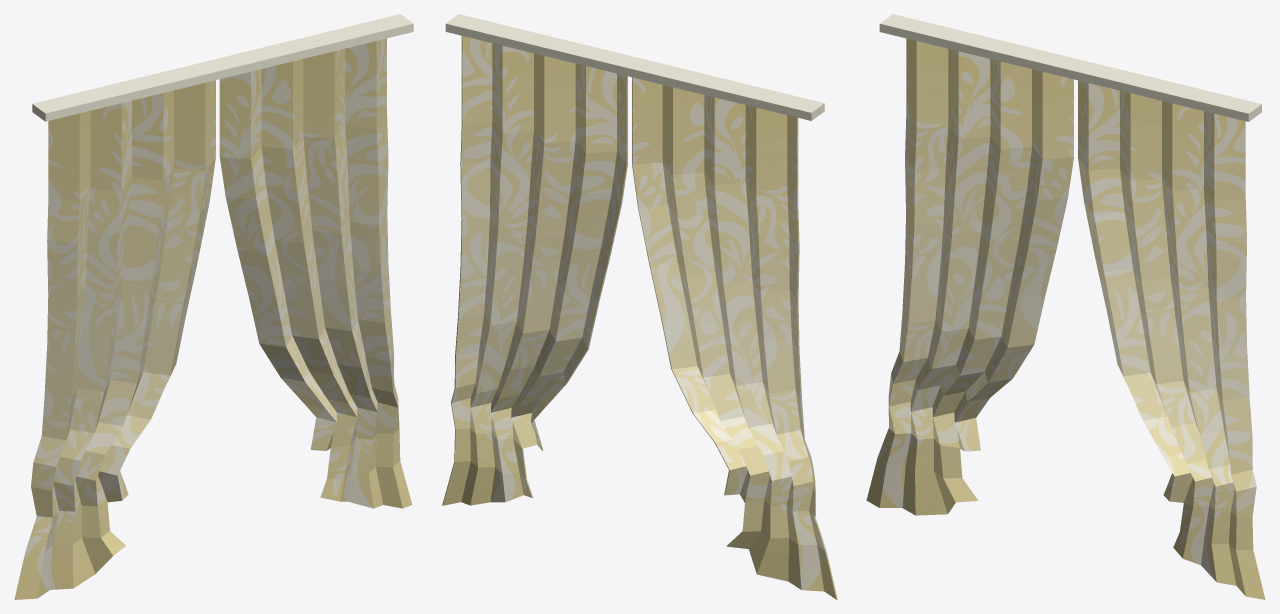
File: Classic Curtain.fbx
3 views of the same model, side by side, from view 1: azimuth 30°, elevation 25°; view 2: azimuth 150°, elevation 25°; view 3: azimuth 330°, elevation 25° (orthographic).
Parts seen in each view (by area): view 1: classic curtain; view 2: classic curtain; view 3: classic curtain.
Boxes of the visible parts, bbox=[...] form: classic curtain: bbox=[14, 14, 413, 599]; classic curtain: bbox=[442, 14, 837, 599]; classic curtain: bbox=[866, 14, 1265, 599].
Bounding box in the file's own units: 193 × 227 × 11.15.
1 material, 1 textured.
